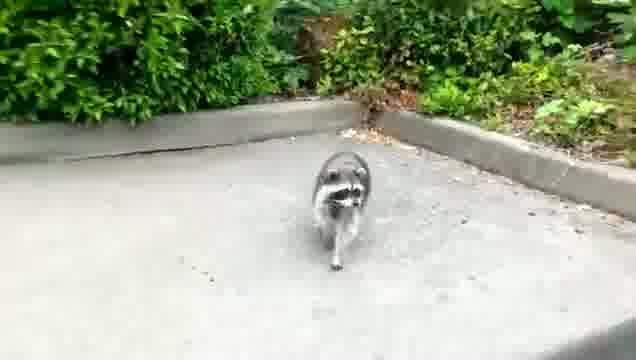raccoon: (312, 149, 372, 275)
